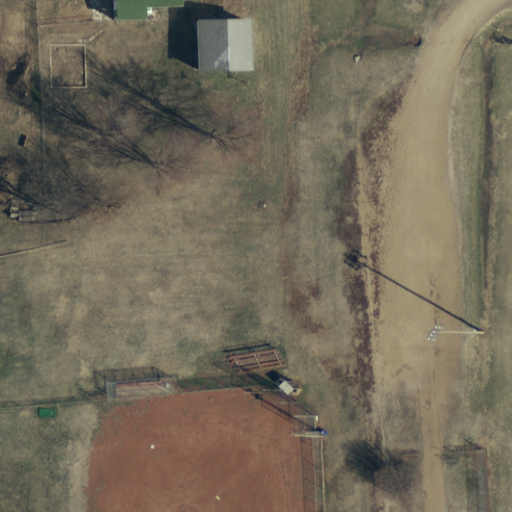DT: (421, 316, 491, 353)
